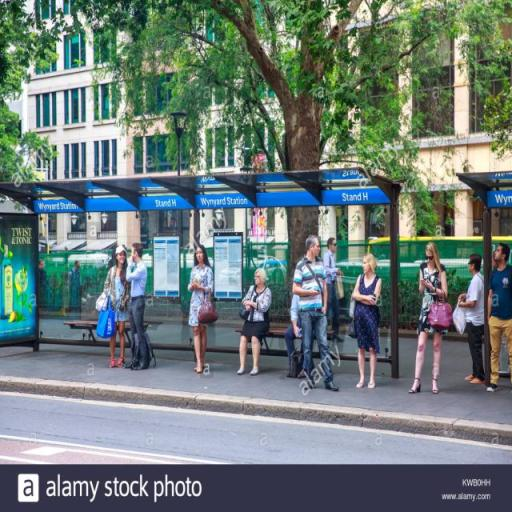person: (296, 235, 343, 391), (407, 244, 451, 397), (459, 254, 495, 384), (354, 253, 383, 391), (239, 267, 274, 377), (125, 244, 154, 371), (488, 244, 512, 395), (190, 246, 217, 375), (104, 248, 131, 369), (328, 239, 347, 345), (67, 263, 84, 314), (41, 262, 52, 314)
